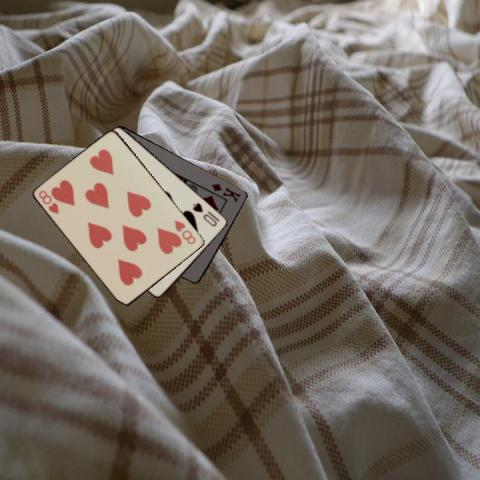10s: (190, 199, 219, 228)
8h: (172, 217, 198, 246), (36, 188, 61, 216)
Kd: (209, 180, 242, 204)
